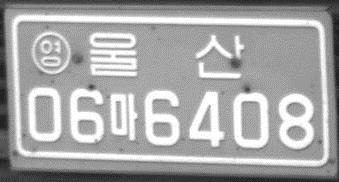0: (232, 91, 270, 150), (26, 85, 63, 144)
4: (187, 90, 225, 147)
6: (67, 86, 105, 145), (143, 87, 180, 146)
8: (276, 91, 316, 151)
마: (107, 91, 139, 141)
영: (31, 30, 72, 77)
울산_D: (86, 29, 246, 82)
